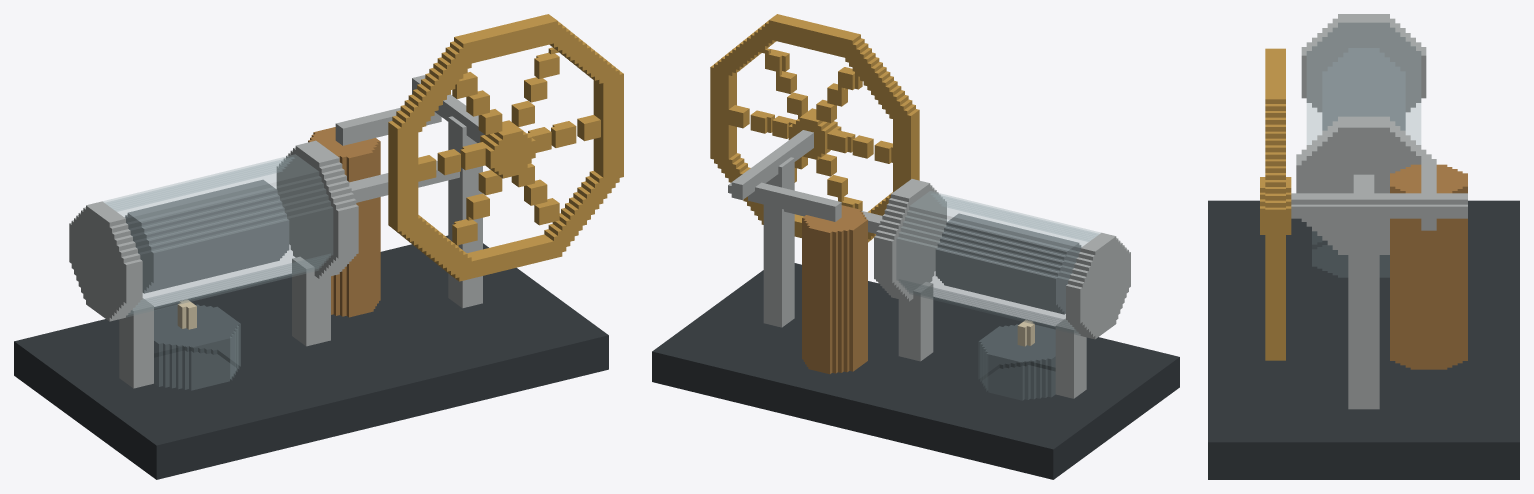
File: engineering_engine_kit.glb
3 renders of one model, left to right at view 1: azimuth 30°, elevation 25°; view 2: azimuth 150°, elevation 25°; view 3: azimuth 270°, elevation 25°, orthographic. The views are drawn at different scales.
Parts seen in each view (by area): view 1: engineering_engine_kit:compound; view 2: engineering_engine_kit:compound; view 3: engineering_engine_kit:compound.
Part boxes in pixels (left/top/right/bottom): engineering_engine_kit:compound: left=14, top=14, right=623, bottom=479; engineering_engine_kit:compound: left=652, top=14, right=1179, bottom=479; engineering_engine_kit:compound: left=1208, top=14, right=1519, bottom=479.
Size of the model in its own units: 0.24 by 0.156 by 0.12.
